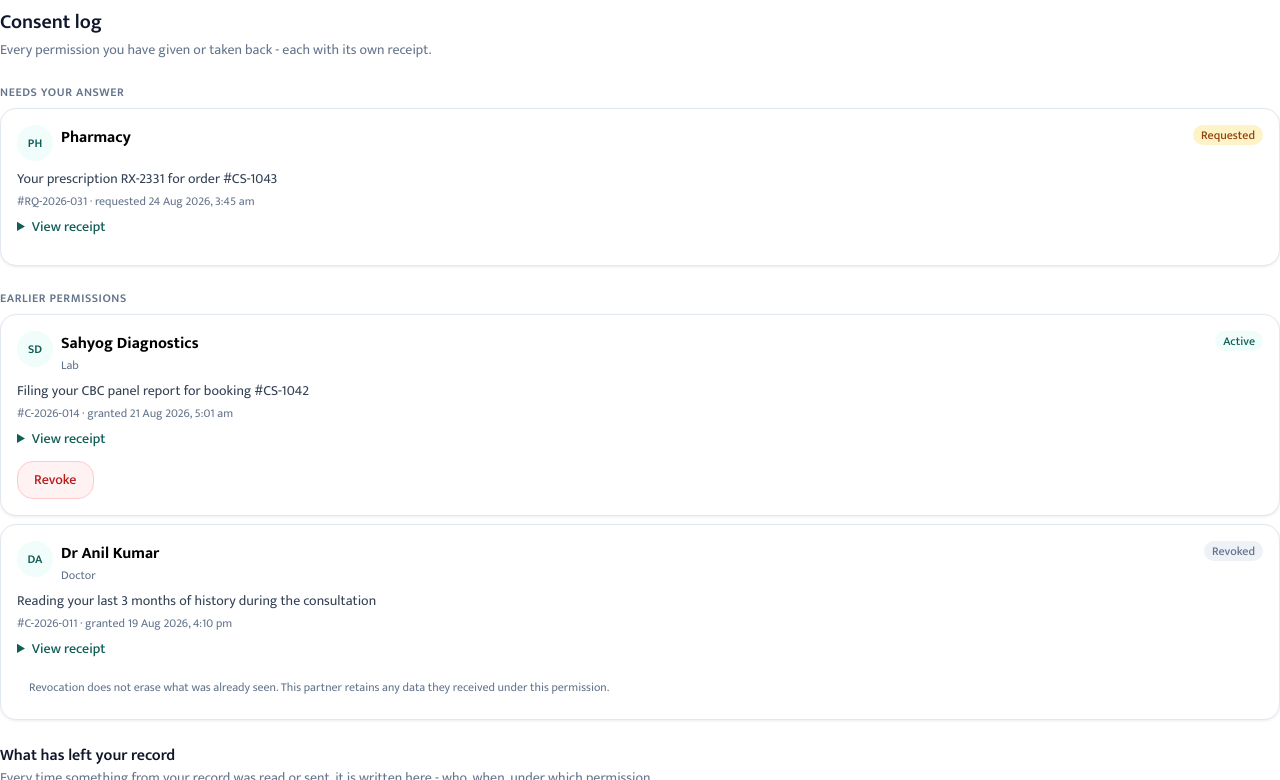
Test case: Inline-confirm revoke flow › opens revoke sheet, confirms, and updates badge
The width and height of the screenshot is (1280, 780).
Expected: the element with test id "pending-section" is shown, [0,84,1279,266]
Note: Click revoke on the active grant (consent_id 1)
Click the button with test id "revoke-1": point(55, 480) [17,461,94,499]
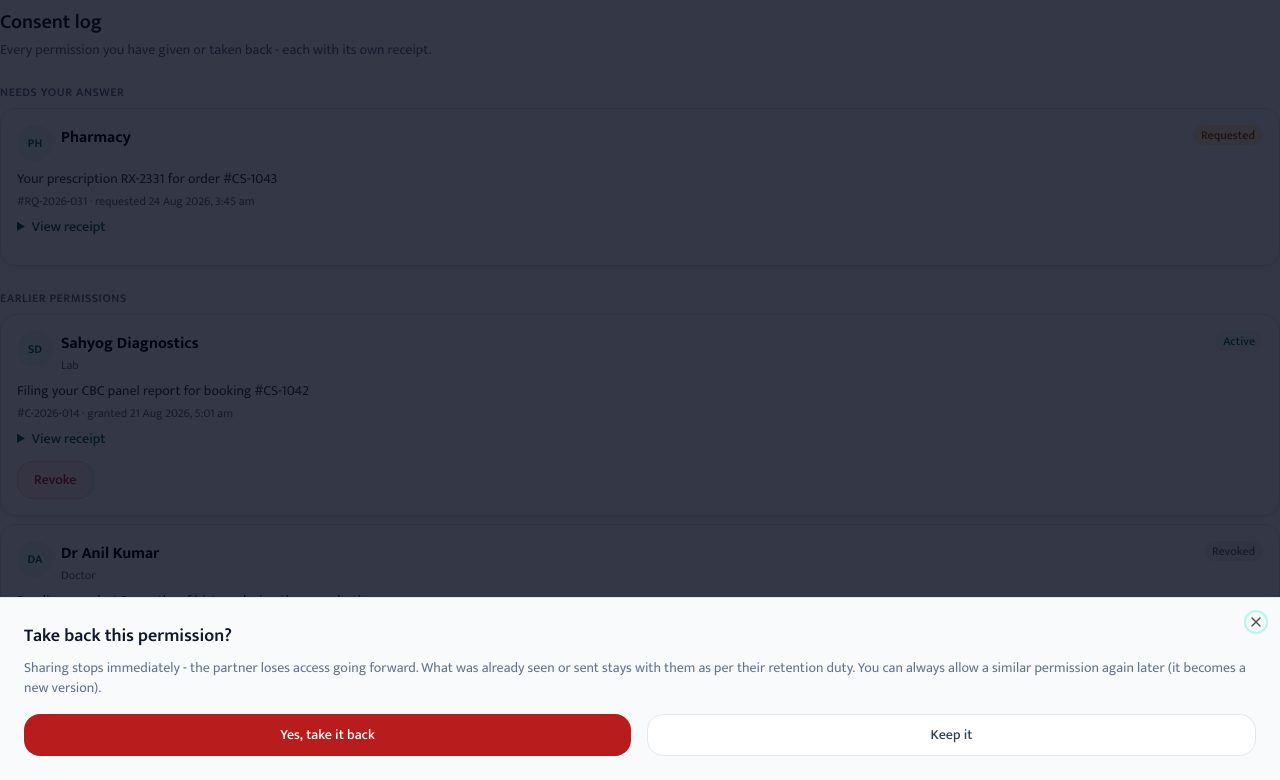
Result: the dialog with test id "revoke-sheet" is shown at [0,597,1279,779]
Result: the heading "Take back this permission?" is shown at [24,621,232,651]
Note: Confirm revoke
Click the button with test id "revoke-confirm": point(328, 735) [24,714,631,756]
(page scrolled)
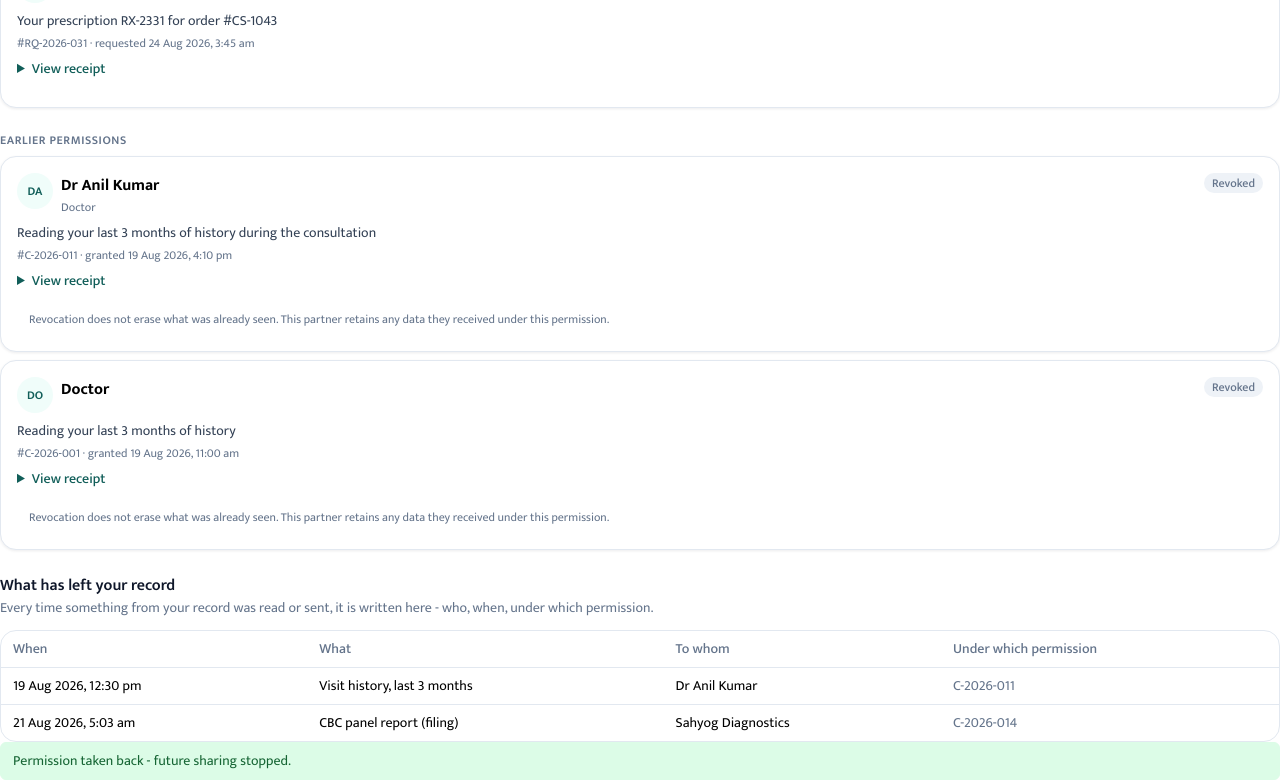
Result: the message "Permission taken back - future sharing stopped." is shown at [0,742,1279,779]
Result: the message with test id "toast" reads "Permission taken back - future sharing stopped." at [13,749,291,772]
